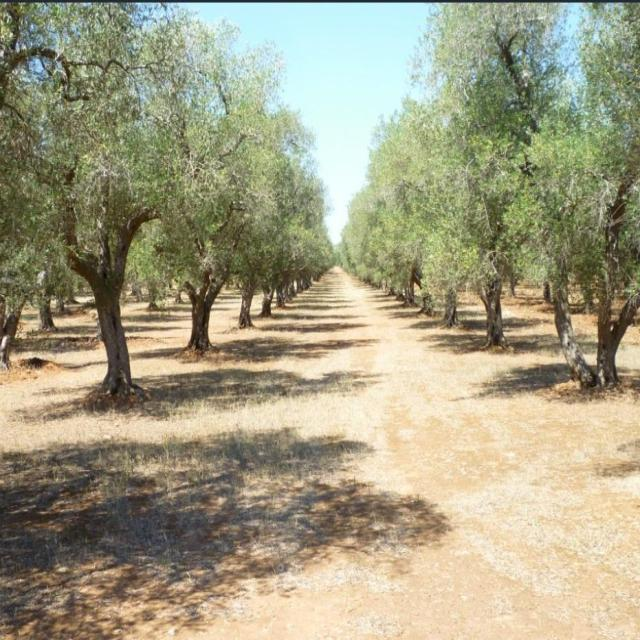row: (0, 268, 640, 640), (0, 290, 269, 440), (416, 281, 640, 381)
